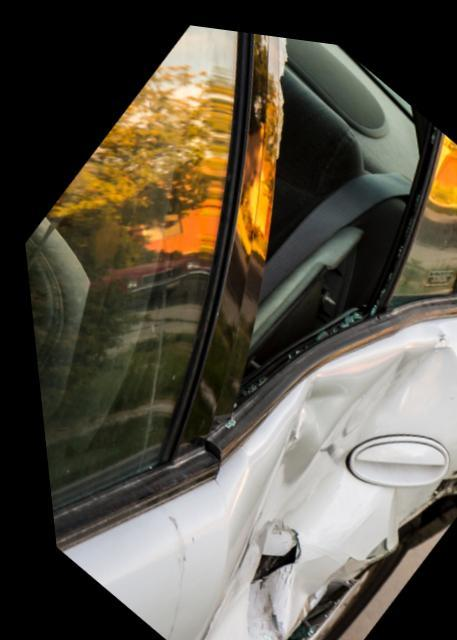crack: (237, 532, 288, 579)
dent: (252, 330, 457, 530), (272, 543, 354, 623)
